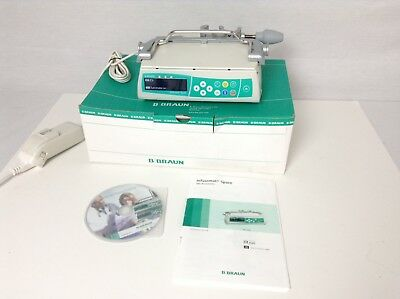BBraun Infusomat Space: (133, 24, 287, 107)
